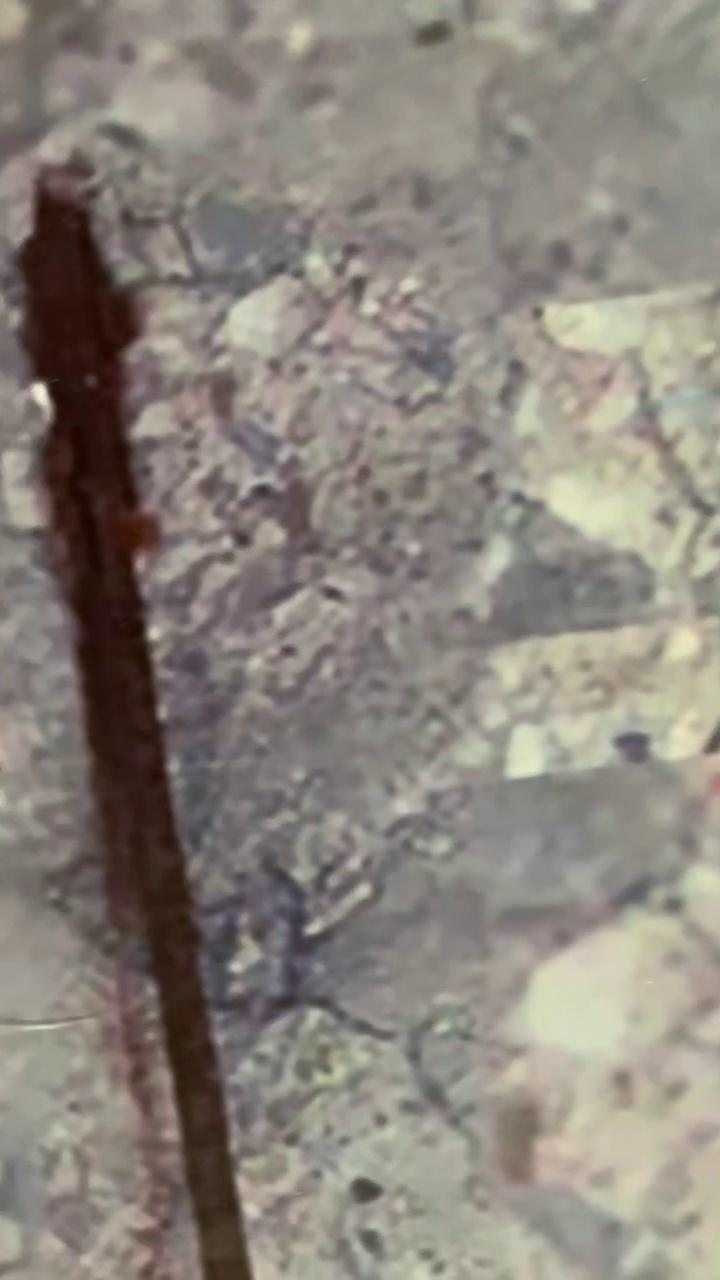Exposed reinforcement: (7, 180, 257, 1280)
